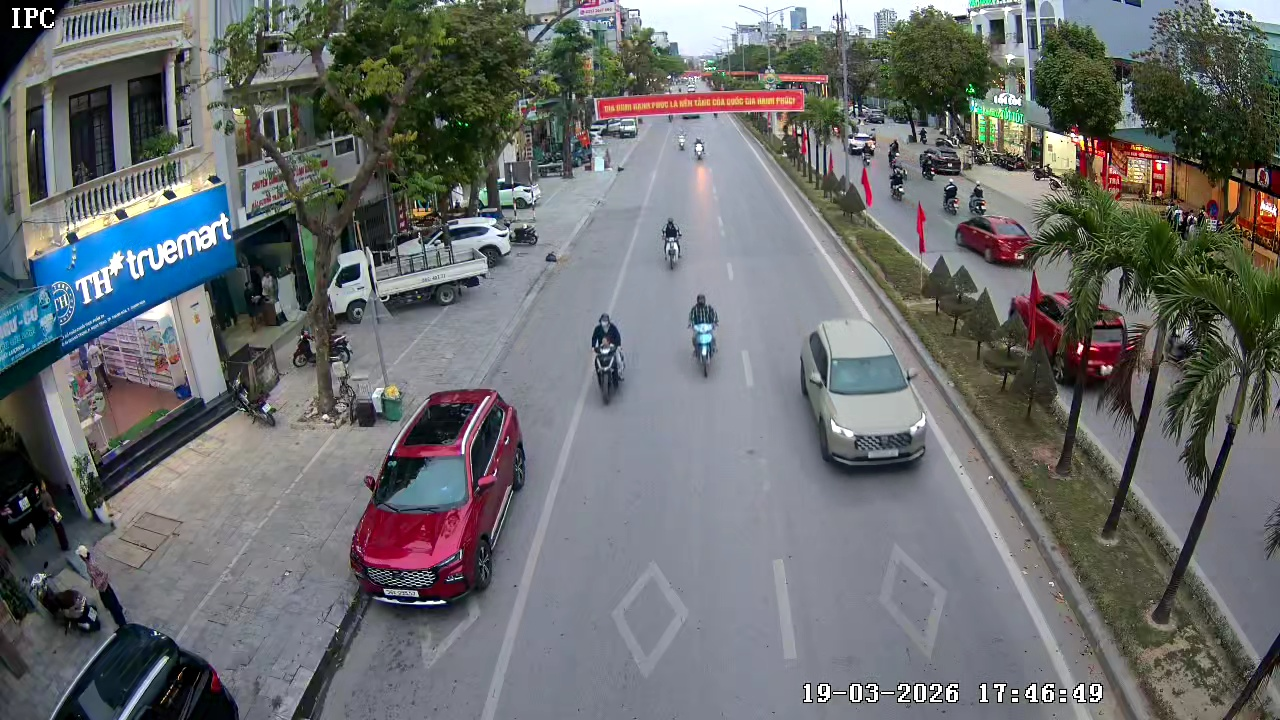car: (348, 387, 529, 605), (799, 318, 928, 467), (953, 211, 1038, 268)
motorbike: (589, 311, 628, 406), (685, 291, 721, 379), (659, 216, 686, 272), (888, 152, 908, 203), (941, 177, 960, 215), (691, 135, 708, 162)
